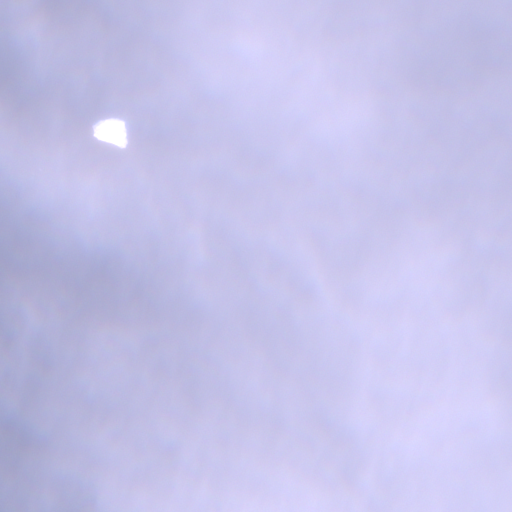Iceberg: (93, 118, 128, 148)
